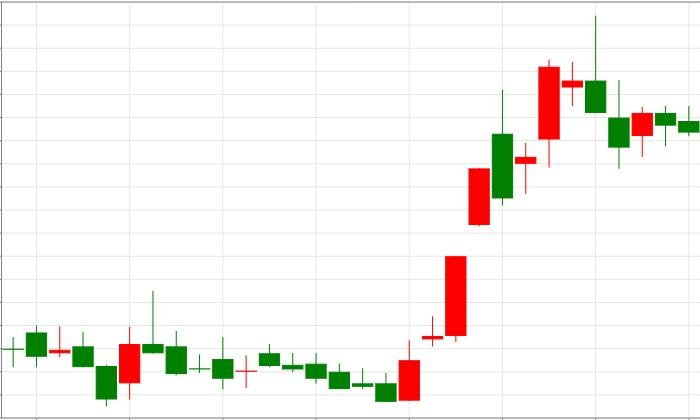bullish_engulfing_rise: (259, 339, 421, 403)
